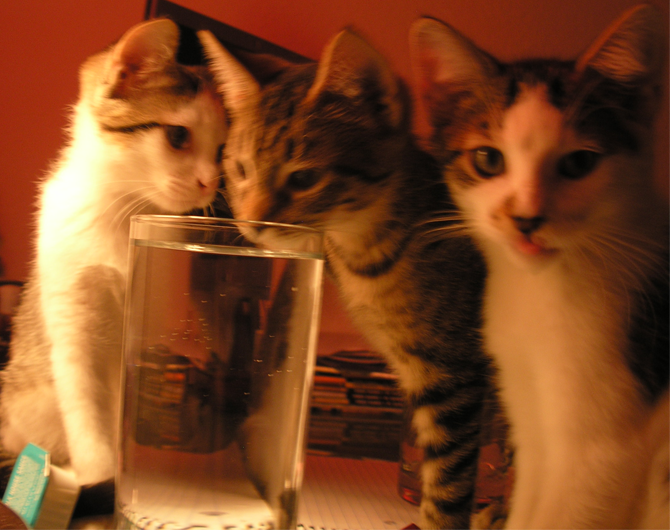glass of water: (135, 206, 273, 530)
